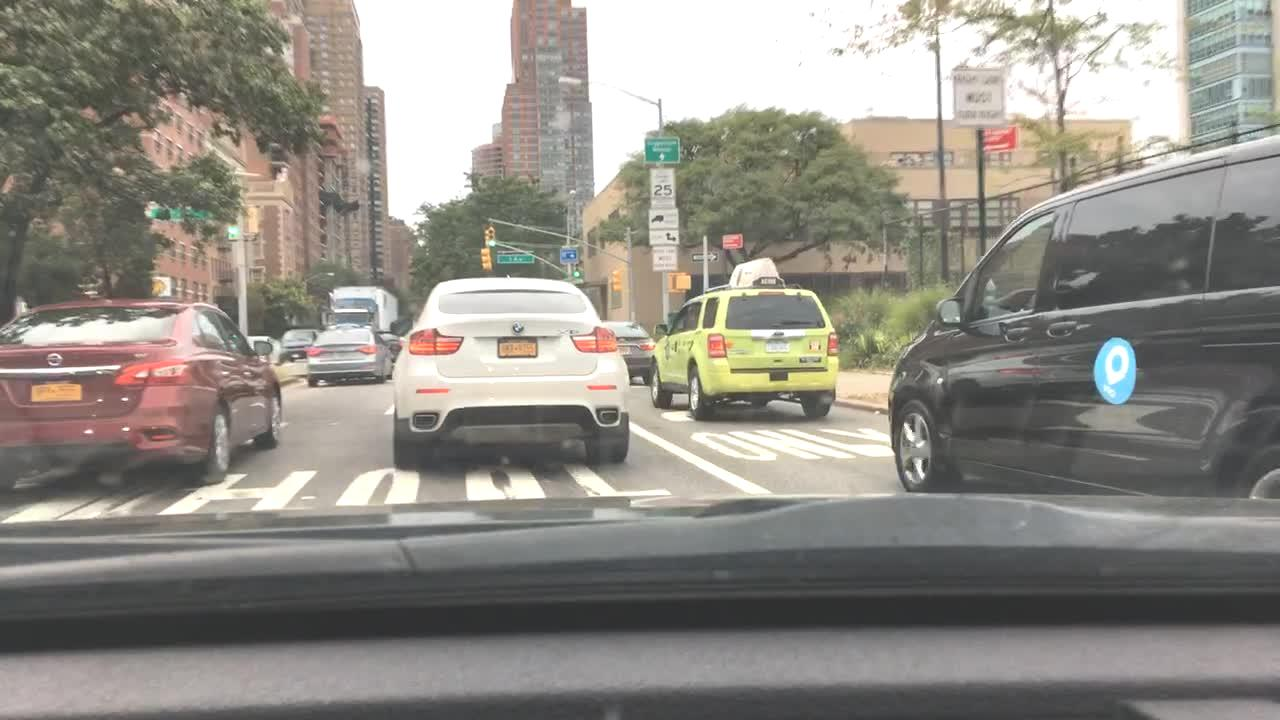Nissan: (41, 348, 69, 368)
bmw: (507, 319, 530, 339)
